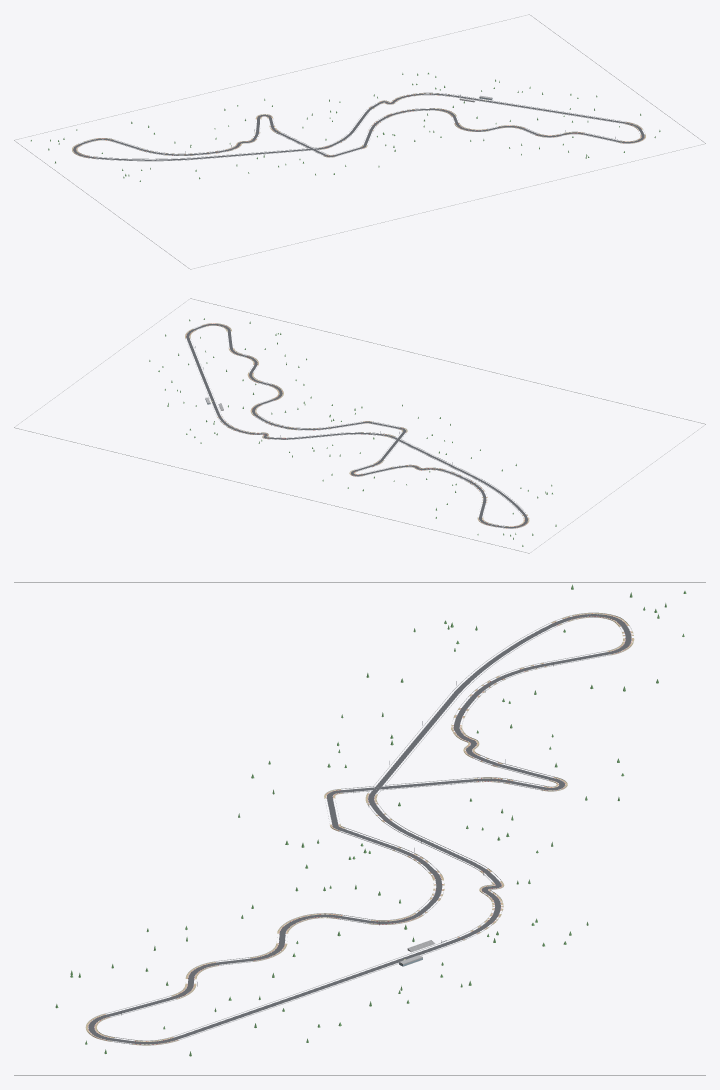
Rendered from suzuka.glb.
3 renders of one model, top to bottom at view 1: azimuth 30°, elevation 25°; view 2: azimuth 150°, elevation 25°; view 3: azimuth 270°, elevation 25°, orthographic. The views are drawn at different scales.
Visible parts, largest first — view 1: suzuka.barrier, suzuka.tarmac, suzuka.gravel, suzuka.foliage; view 2: suzuka.tarmac, suzuka.barrier, suzuka.gravel, suzuka.foliage; view 3: suzuka.tarmac, suzuka.barrier, suzuka.gravel, suzuka.foliage.
Boxes of the visible parts, x1,y1,x2,y2 form: suzuka.barrier: (14, 14, 705, 269); suzuka.tarmac: (73, 93, 644, 160); suzuka.gravel: (72, 93, 645, 158); suzuka.foliage: (31, 72, 660, 181); suzuka.tarmac: (186, 324, 528, 528); suzuka.barrier: (14, 298, 705, 553); suzuka.gravel: (185, 323, 529, 528); suzuka.foliage: (149, 318, 556, 546); suzuka.tarmac: (88, 614, 631, 1044); suzuka.barrier: (14, 582, 705, 1075); suzuka.gravel: (85, 613, 634, 1045); suzuka.foliage: (55, 584, 686, 1056).
Size of the model in its own units: 2264 by 12.5 by 1342.
